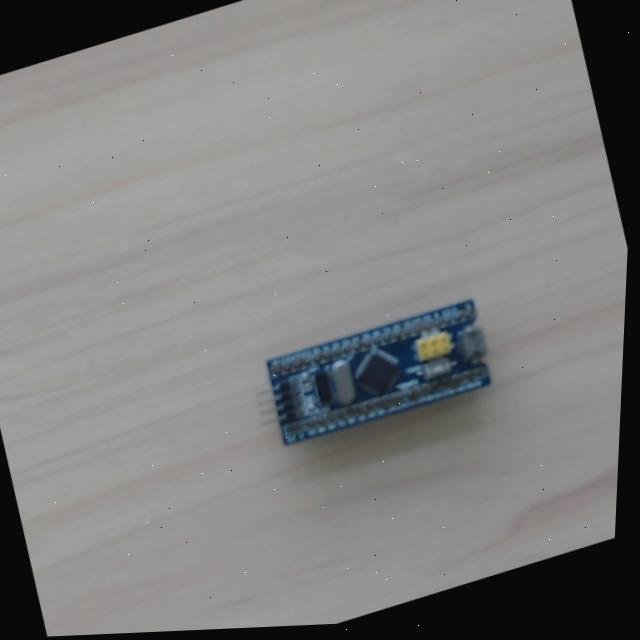STM32-Bluepill: (259, 299, 495, 445)
